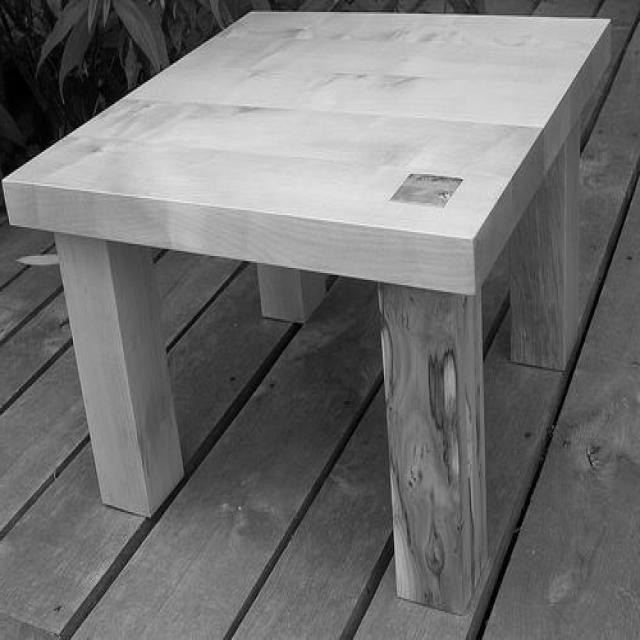table: (4, 12, 612, 612)
